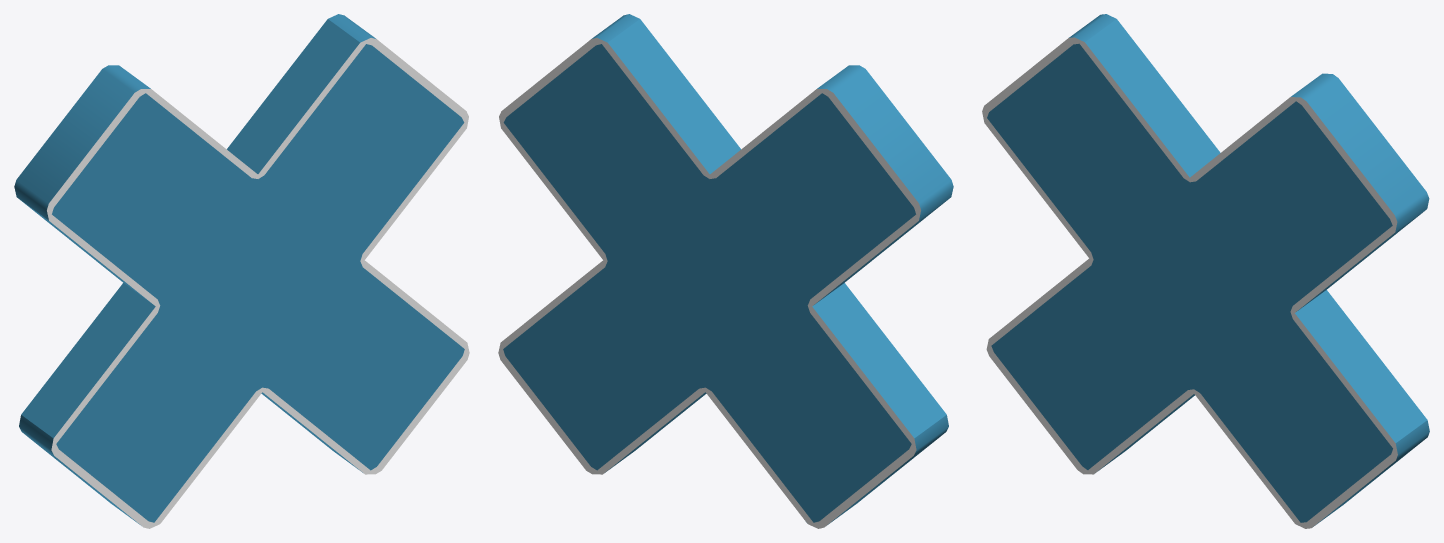
The model's file is Segu_Hairclip2(Outline).FBX.
3 views of the same model, side by side, from view 1: azimuth 30°, elevation 25°; view 2: azimuth 150°, elevation 25°; view 3: azimuth 330°, elevation 25° (orthographic).
Visible parts, largest first — view 1: Segu_Hairclip; view 2: Segu_Hairclip; view 3: Segu_Hairclip.
Part boxes in pixels (left/top/right/bottom): Segu_Hairclip: left=14, top=14, right=469, bottom=528; Segu_Hairclip: left=498, top=14, right=953, bottom=528; Segu_Hairclip: left=982, top=14, right=1429, bottom=528.
Bounding box in the file's own units: 33.75 × 33.75 × 4.49.
